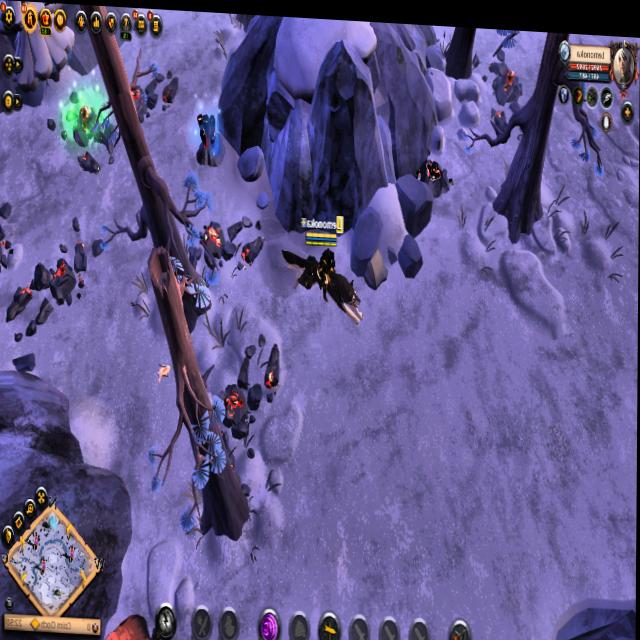ore tier 5: (196, 105, 226, 167)
